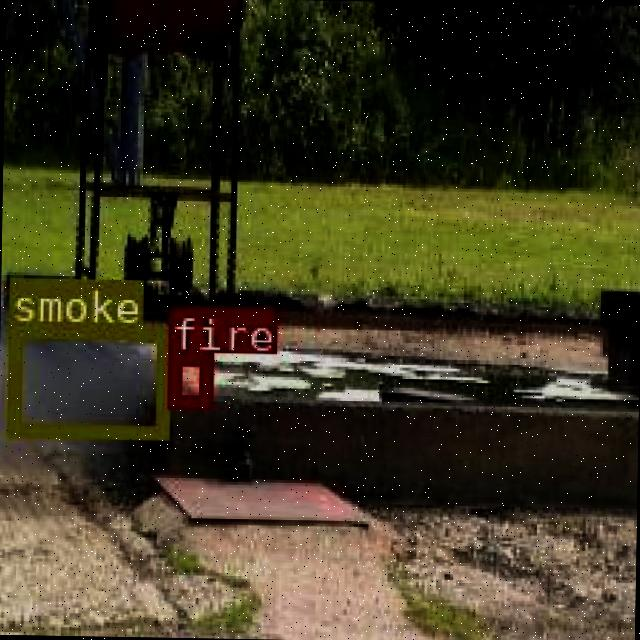fire: (166, 350, 208, 406)
smoke: (4, 320, 166, 436)
